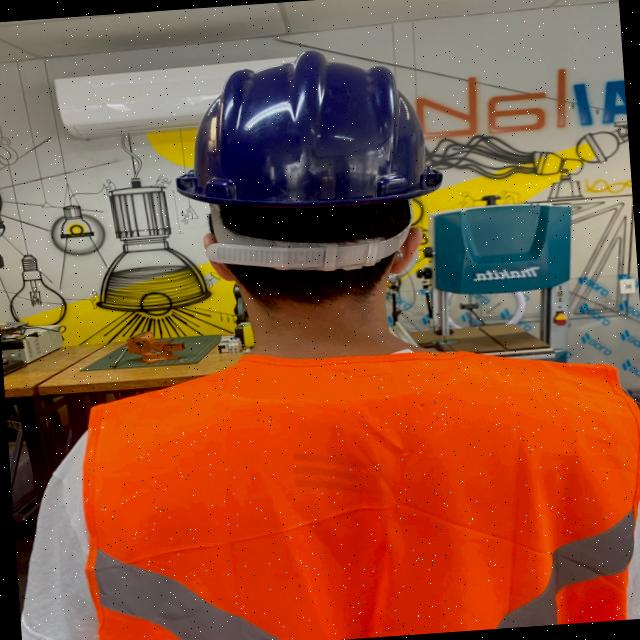CAPACETE: (168, 49, 448, 272)
COLETE: (80, 346, 638, 640)
